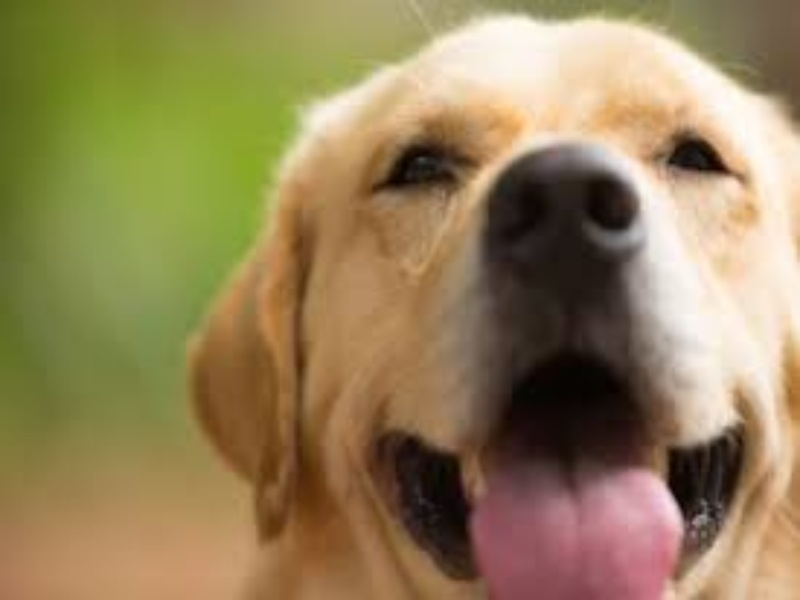dog: (188, 12, 800, 588)
